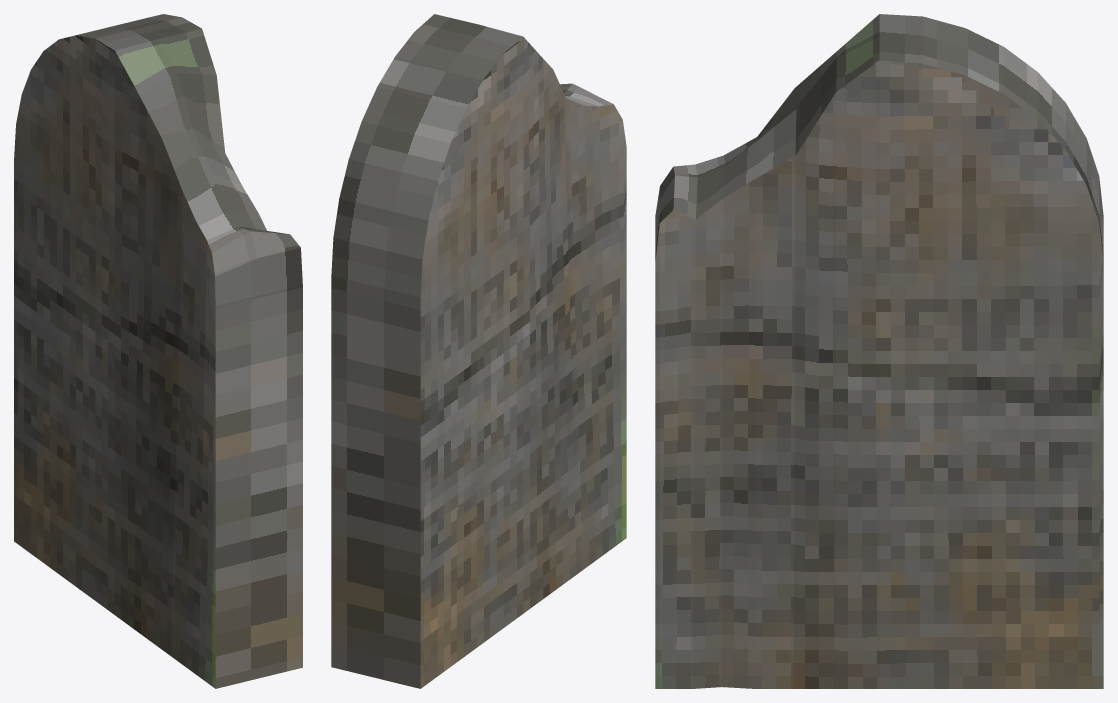
Rendered from GravestoneKindaCracked.fbx.
3 views of the same model, side by side, from view 1: azimuth 30°, elevation 25°; view 2: azimuth 150°, elevation 25°; view 3: azimuth 270°, elevation 25° (orthographic). The views are drawn at different scales.
Visible parts, largest first — view 1: Circle.001; view 2: Circle.001; view 3: Circle.001.
Part boxes in pixels (x1,y1,x2,y2): Circle.001: (14, 14, 302, 688); Circle.001: (331, 14, 626, 688); Circle.001: (655, 14, 1103, 688).
Bounding box in the file's own units: 50 × 310 × 200.
